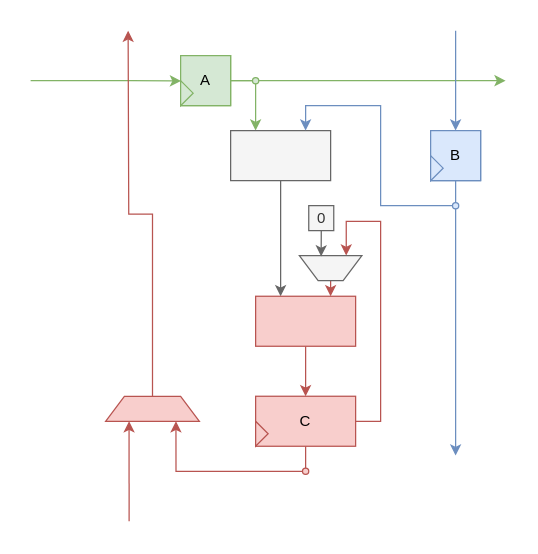
The diagram is 538 pixels wide and 554 high, and some of its shapes have lost their labels. The centre of each missing label's shape, as x and y in pixels:
add: (305,320)
multiply: (280,155)
